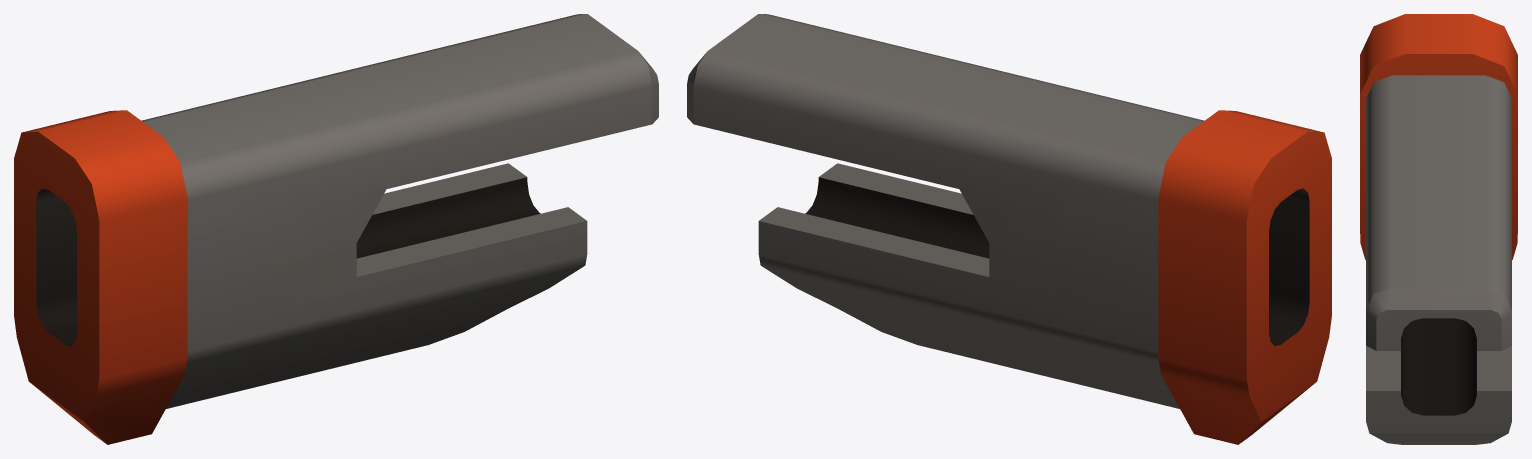
The model's file is Muzzle_Caliber2_04.fbx.
3 views of the same model, side by side, from view 1: azimuth 30°, elevation 25°; view 2: azimuth 150°, elevation 25°; view 3: azimuth 270°, elevation 25° (orthographic). The views are drawn at different scales.
Parts seen in each view (by area): view 1: Muzzle_Caliber2_04; view 2: Muzzle_Caliber2_04; view 3: Muzzle_Caliber2_04.
Boxes of the visible parts, <box> form: Muzzle_Caliber2_04: <box>14,14,658,444</box>; Muzzle_Caliber2_04: <box>687,14,1331,444</box>; Muzzle_Caliber2_04: <box>1360,14,1517,444</box>.
Size of the model in its own units: 21.33 by 10.96 by 5.54.
